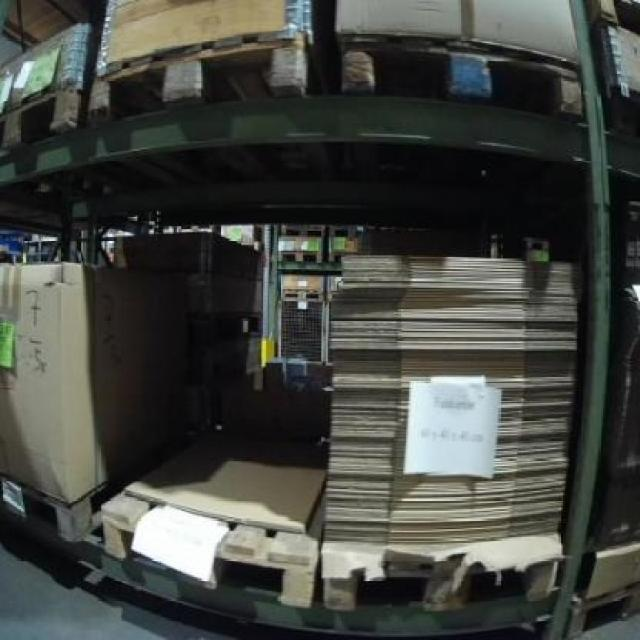pallets: (320, 254, 574, 625), (0, 262, 183, 537), (98, 437, 323, 605)
